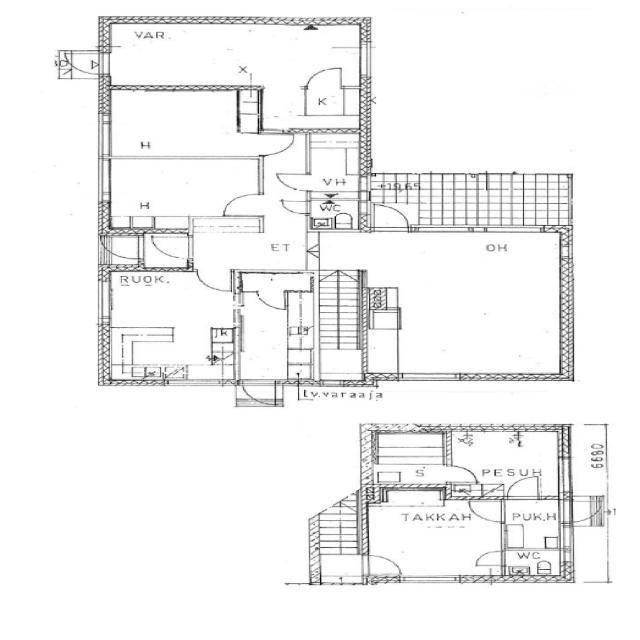door: (146, 232, 195, 262), (218, 190, 265, 219), (100, 234, 144, 264), (253, 130, 298, 158), (63, 50, 108, 77), (566, 495, 606, 525), (236, 379, 280, 406), (368, 203, 410, 231), (302, 65, 346, 90), (192, 268, 234, 293), (466, 498, 506, 524), (361, 553, 404, 576), (504, 475, 541, 500), (274, 170, 312, 192), (442, 464, 479, 485), (470, 548, 508, 568), (254, 290, 289, 311), (278, 197, 312, 216)
window: (91, 277, 116, 323), (478, 223, 549, 237), (93, 158, 115, 202), (394, 371, 463, 385), (93, 117, 116, 157), (354, 41, 376, 80), (397, 573, 463, 585), (556, 454, 575, 492), (162, 378, 227, 389)
zone: (368, 233, 564, 380), (104, 22, 361, 89), (104, 268, 237, 383), (104, 157, 261, 229), (363, 500, 504, 578), (363, 429, 562, 484), (102, 90, 258, 157), (259, 87, 366, 132), (307, 128, 363, 199), (503, 498, 562, 550), (370, 433, 446, 469), (369, 460, 448, 488), (501, 549, 568, 580), (312, 508, 359, 551), (306, 198, 362, 232), (312, 550, 365, 585), (285, 291, 318, 337)
